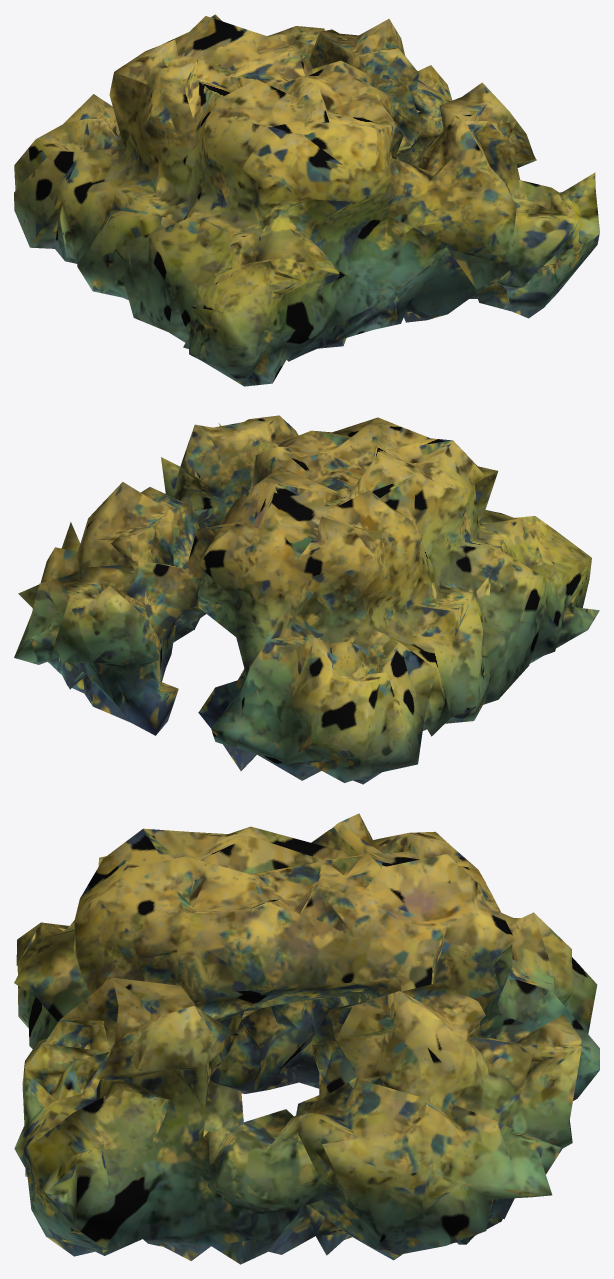
The model's file is Meshy_AI_Verdant_Cloud_0511132534_texture.fbx.
The picture shows the model from 3 angles, top to bottom: view 1: azimuth 30°, elevation 25°; view 2: azimuth 150°, elevation 25°; view 3: azimuth 270°, elevation 25°; orthographic projection. The views are drawn at different scales.
Visible parts, largest first — view 1: Mesh1.0; view 2: Mesh1.0; view 3: Mesh1.0.
Boxes of the visible parts, <box> form: Mesh1.0: <box>14,14,599,386</box>; Mesh1.0: <box>14,415,599,784</box>; Mesh1.0: <box>14,813,599,1264</box>.
Bounding box in the file's own units: 200 × 111 × 196.
Materials: 1 (1 with a texture image).
